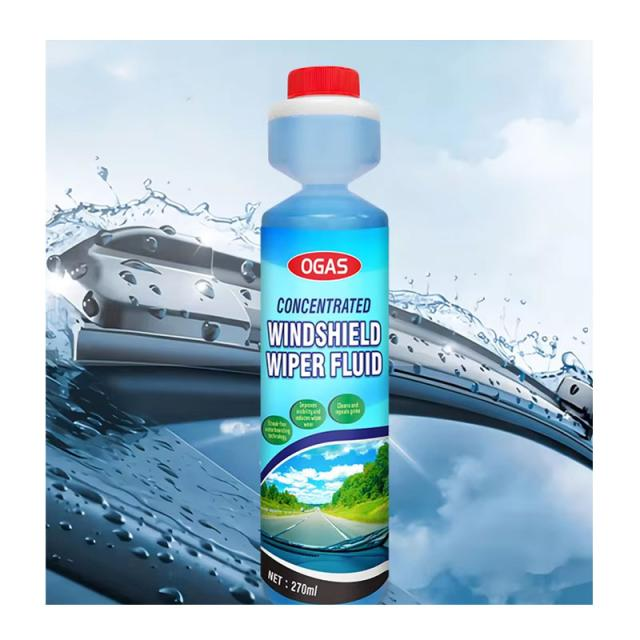winwinshield_washer: (256, 61, 395, 606)
